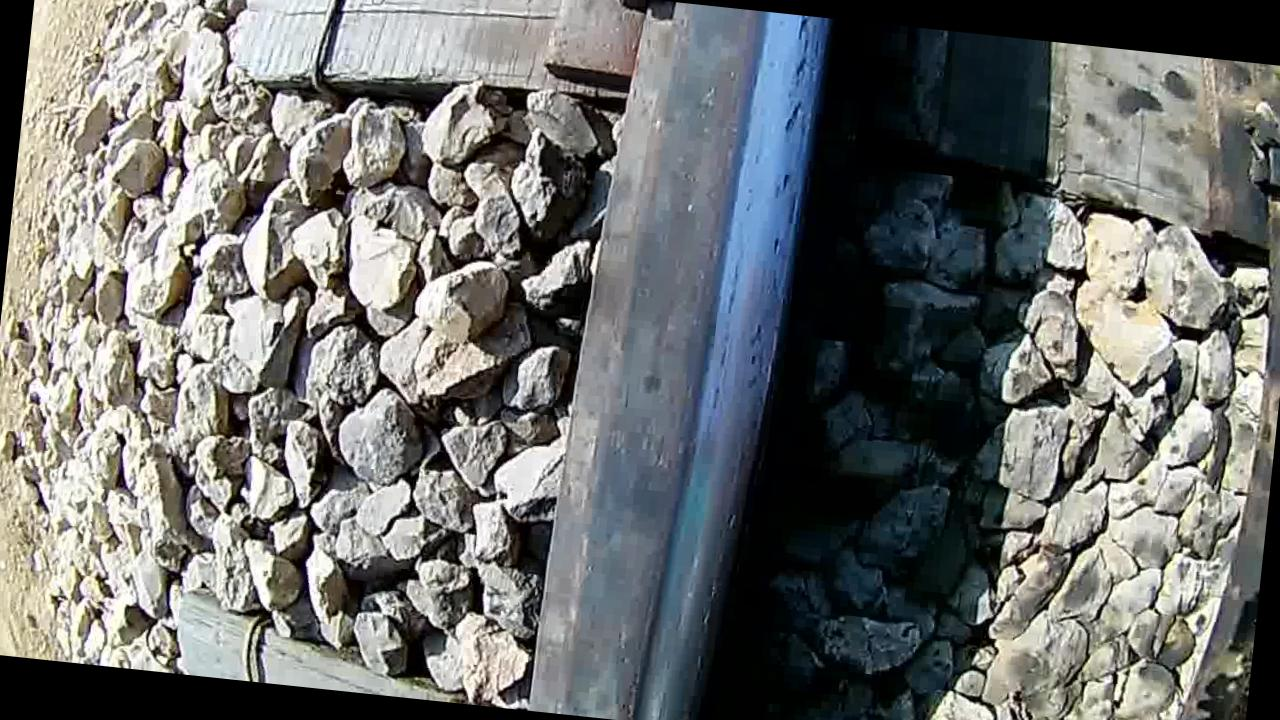crack: (582, 0, 829, 720)
